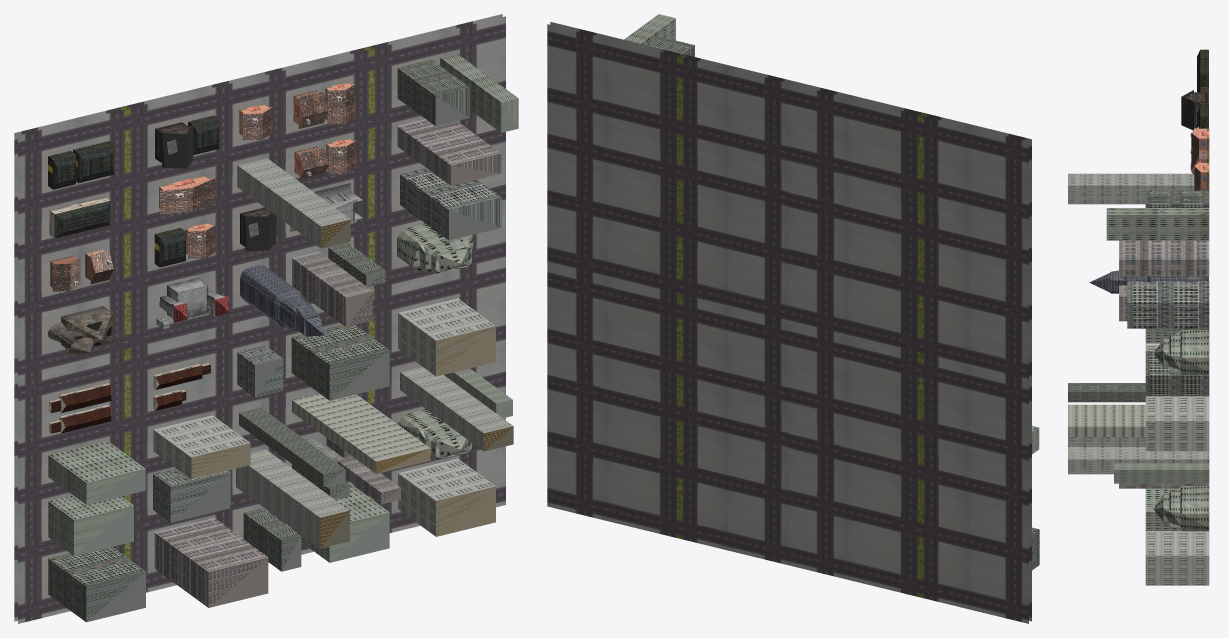
The model's file is city2test2_wtf.obj.
3 renders of one model, left to right at view 1: azimuth 30°, elevation 25°; view 2: azimuth 150°, elevation 25°; view 3: azimuth 270°, elevation 25°, orthographic. The views are drawn at different scales.
Parts seen in each view (by area): view 1: group2, group69, group59, group3, group71, group72, group74, group75, group18, group5, group19, group58 (+39 smaller); view 2: group166, group2, group17; view 3: group18, group71, group72, group17, group5, group19, group58, group59, group57, group62, group74, group139 (+14 smaller).
Boxes of the visible parts, left/top/right/bottom form: group2: left=18, top=16, right=505, bottom=623; group69: left=154, top=518, right=268, bottom=607; group59: left=292, top=393, right=430, bottom=473; group3: left=236, top=449, right=349, bottom=548; group71: left=398, top=298, right=495, bottom=376; group72: left=398, top=458, right=495, bottom=536; group74: left=291, top=324, right=389, bottom=400; group75: left=48, top=547, right=145, bottom=622; group18: left=400, top=168, right=501, bottom=240; group5: left=237, top=158, right=350, bottom=248; group19: left=397, top=119, right=501, bottom=185; group58: left=400, top=366, right=513, bottom=451; group166: left=547, top=24, right=1028, bottom=623; group2: left=550, top=22, right=1031, bottom=621; group17: left=624, top=14, right=675, bottom=45; group18: left=1127, top=281, right=1209, bottom=328; group71: left=1145, top=396, right=1209, bottom=451; group72: left=1145, top=531, right=1209, bottom=585; group17: left=1106, top=208, right=1209, bottom=240; group5: left=1068, top=173, right=1194, bottom=204; group19: left=1119, top=240, right=1209, bottom=276; group58: left=1068, top=447, right=1209, bottom=474; group59: left=1068, top=404, right=1145, bottom=436; group57: left=1114, top=463, right=1209, bottom=483; group62: left=1163, top=486, right=1208, bottom=531; group74: left=1145, top=351, right=1209, bottom=396; group139: left=1163, top=330, right=1208, bottom=375.
Bounding box in the file's own units: 660 × 631 × 205.
